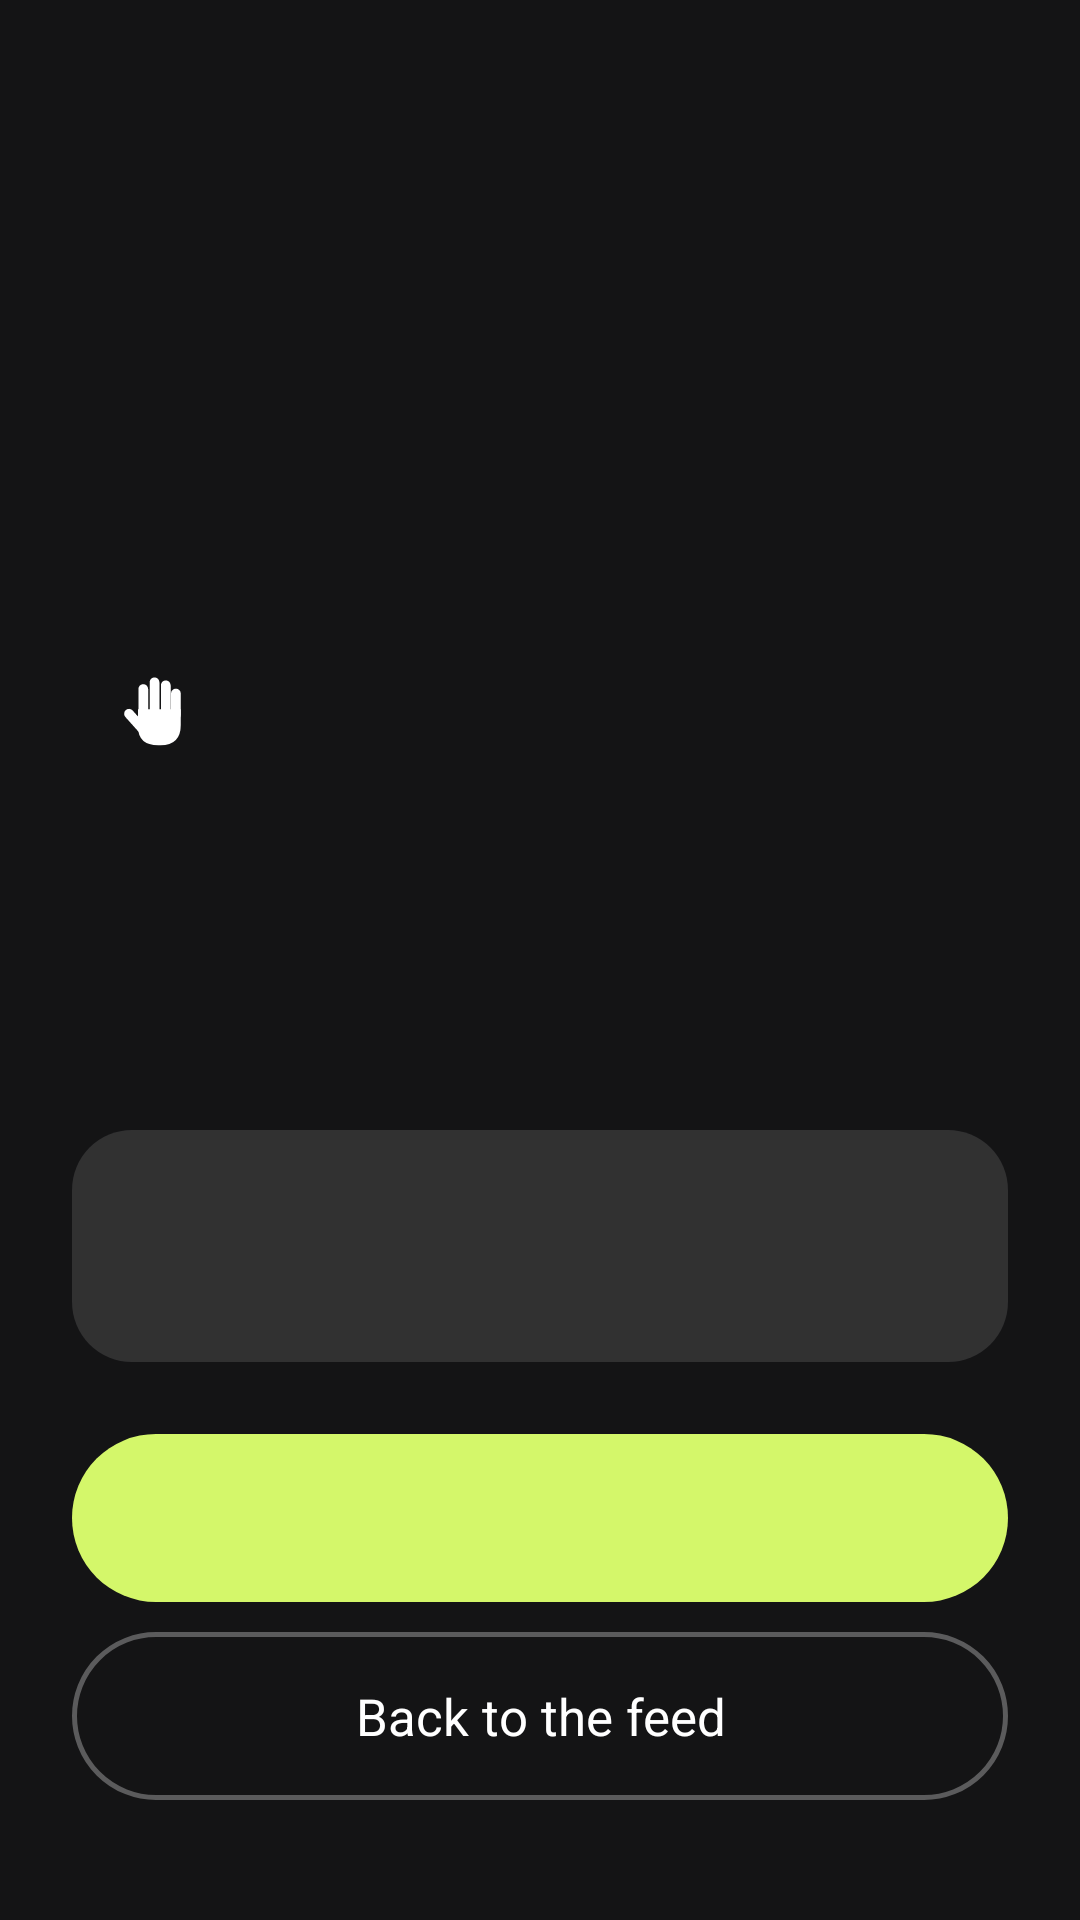

Icon bounding boxes for this 1080 x 1920 phone screenshot, format {"x1": x1, "y1": y1, "x2": x2, "y2": y2}:
hand: {"x1": 124, "y1": 677, "x2": 181, "y2": 746}
